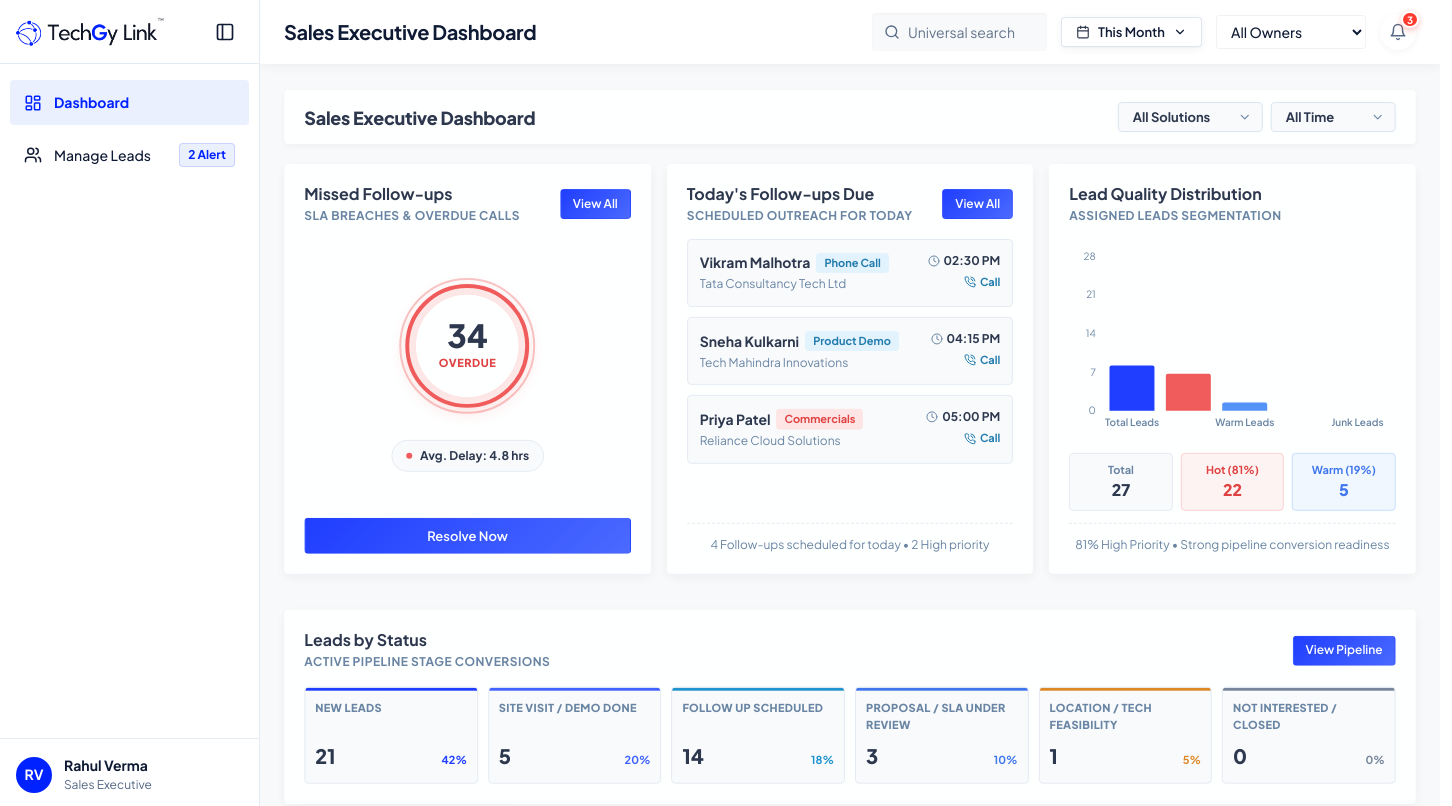
Test: lead editing › hides the Edit control from sales executives
Click the button "Manage Leads 2 Alert" at {"x": 130, "y": 155}, box [24,143,235,167]
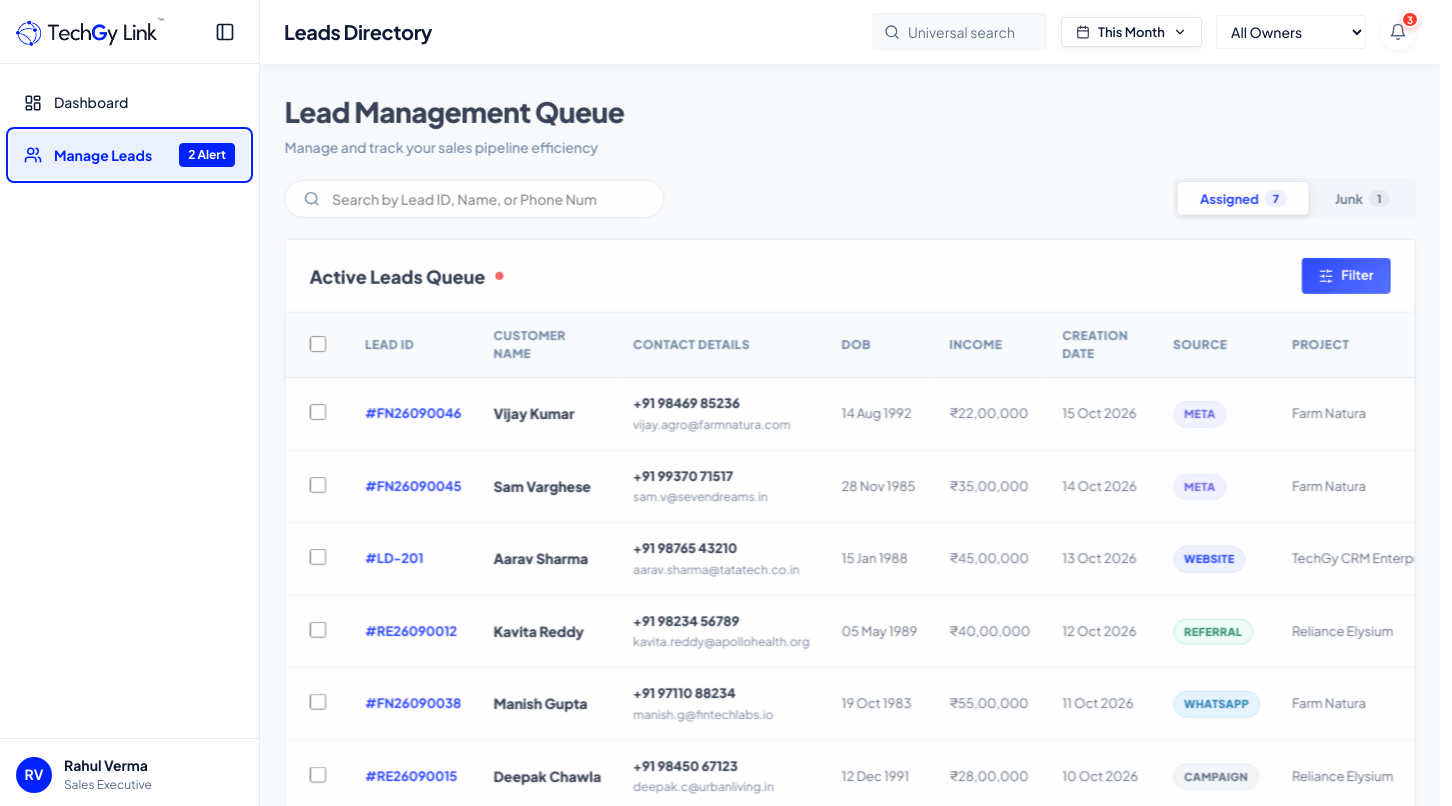
Click the button "Vijay Kumar" at {"x": 533, "y": 413}, box [493,404,574,422]
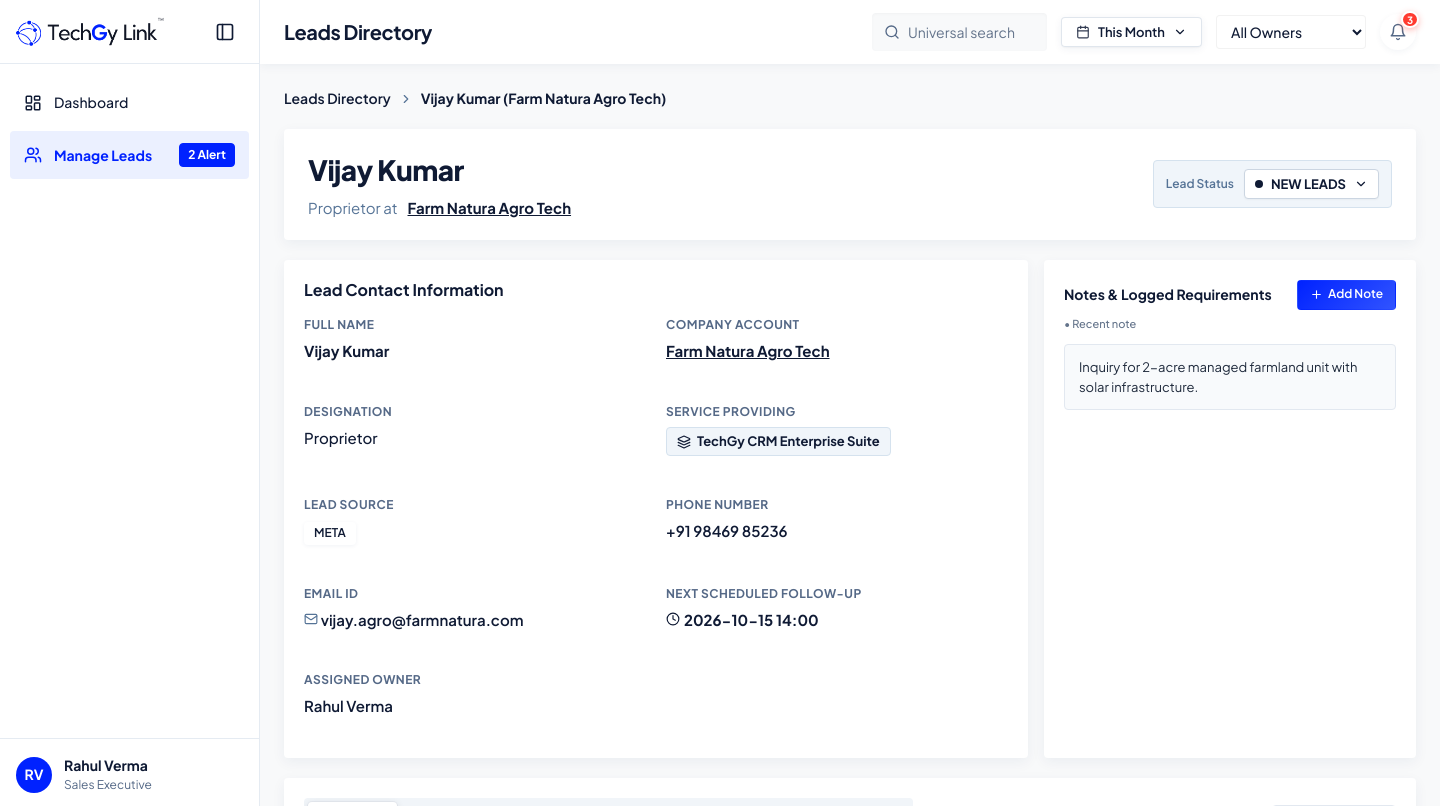
Expected: the heading "Vijay Kumar" is shown, [308,152,464,187]
